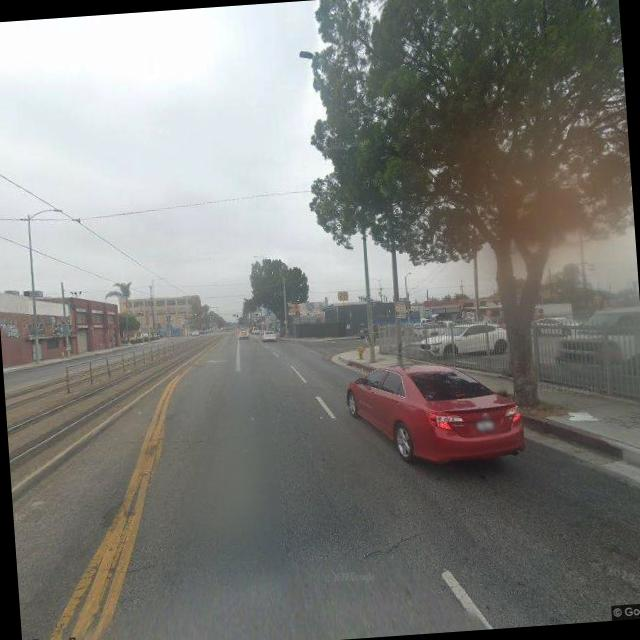pothole: (358, 528, 426, 559)
